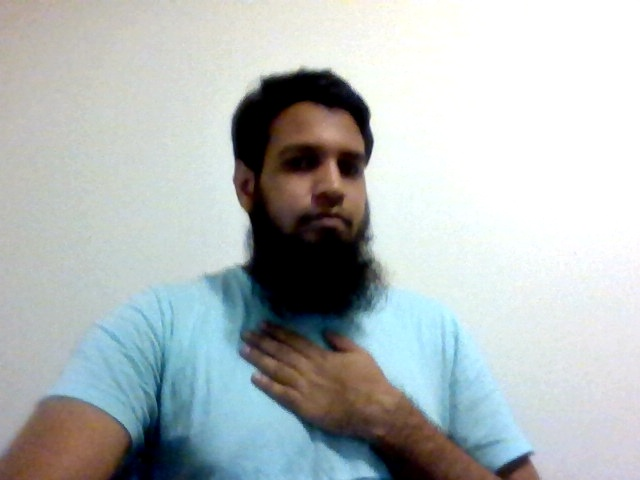please: (236, 311, 402, 447)
